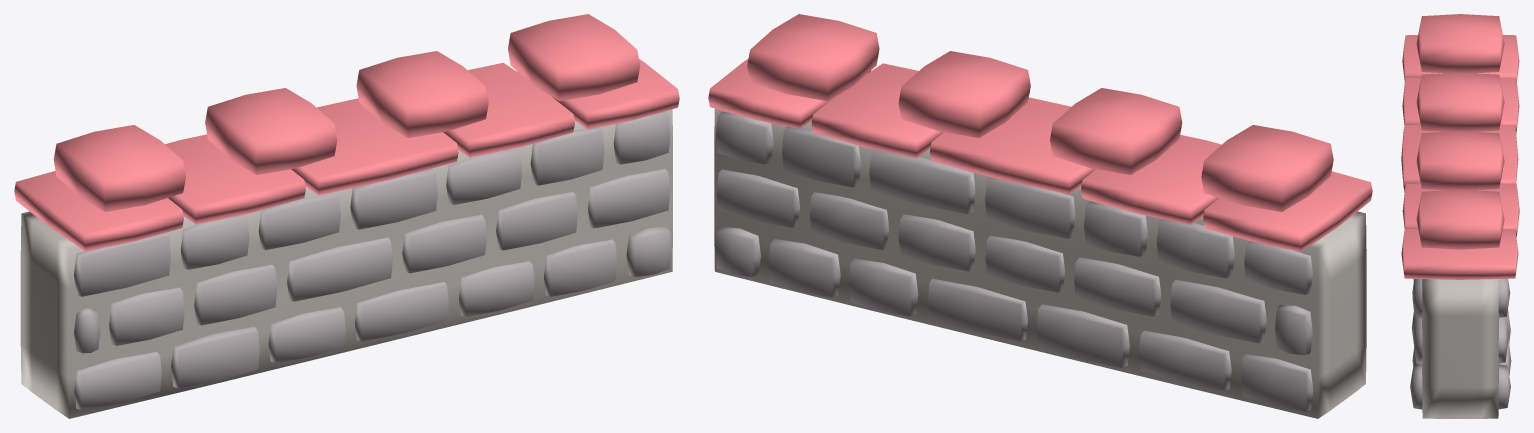
File: ArrowAmbushWall.glb
3 views of the same model, side by side, from view 1: azimuth 30°, elevation 25°; view 2: azimuth 150°, elevation 25°; view 3: azimuth 270°, elevation 25° (orthographic). The views are drawn at different scales.
Parts seen in each view (by area): view 1: Stone, Cap, Mortar; view 2: Stone, Cap, Mortar; view 3: Cap, Mortar, Stone.
Part boxes in pixels (<box>): Stone: <box>74,111,671,410</box>; Cap: <box>14,14,679,251</box>; Mortar: <box>20,109,672,418</box>; Stone: <box>715,111,1313,411</box>; Cap: <box>708,14,1372,251</box>; Mortar: <box>714,108,1366,418</box>; Cap: <box>1401,14,1519,279</box>; Mortar: <box>1422,279,1498,418</box>; Stone: <box>1410,279,1511,409</box>.
Size of the model in its own units: 8.8 by 3.31 by 1.88.
